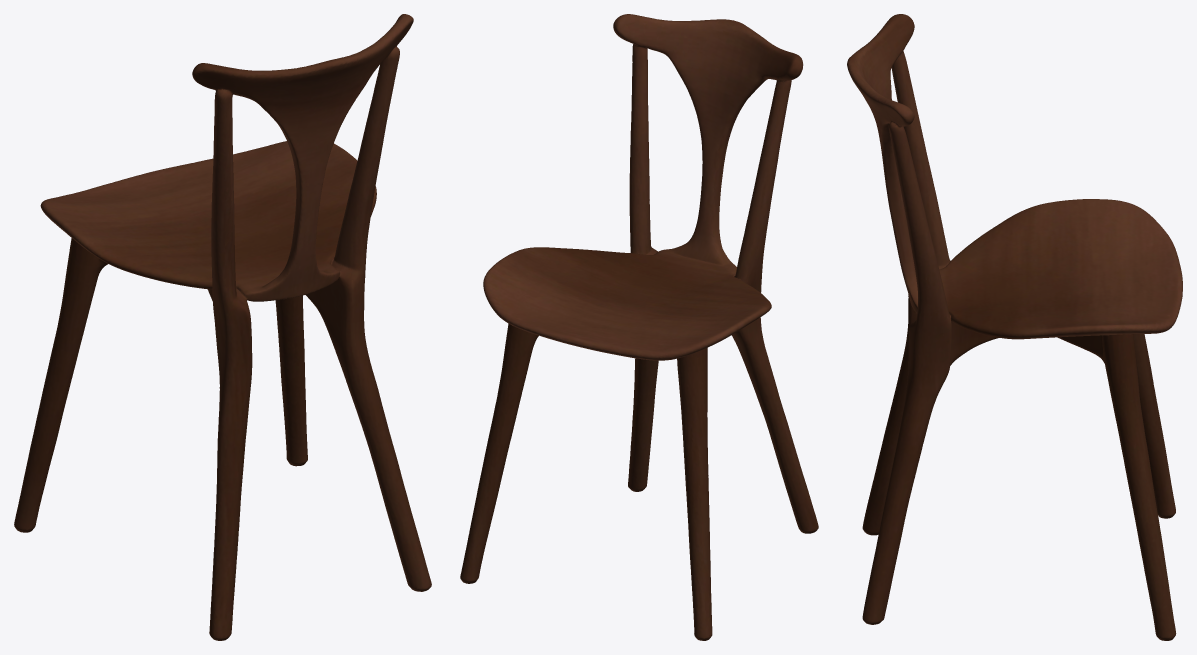
Rendered from Sculptural Dark Wood Side Chair [lvgRqx].glb.
The picture shows the model from 3 angles, left to right: view 1: azimuth 30°, elevation 25°; view 2: azimuth 150°, elevation 25°; view 3: azimuth 270°, elevation 25°; orthographic projection. The views are drawn at different scales.
Parts seen in each view (by area): view 1: world; view 2: world; view 3: world.
Boxes of the visible parts, x1=… form: world: x1=14, y1=14, x2=431, y2=640; world: x1=460, y1=14, x2=818, y2=640; world: x1=847, y1=14, x2=1182, y2=640.
Bounding box in the file's own units: 0.5427 × 1 × 0.5901.
Materials: 1 (1 with a texture image).
